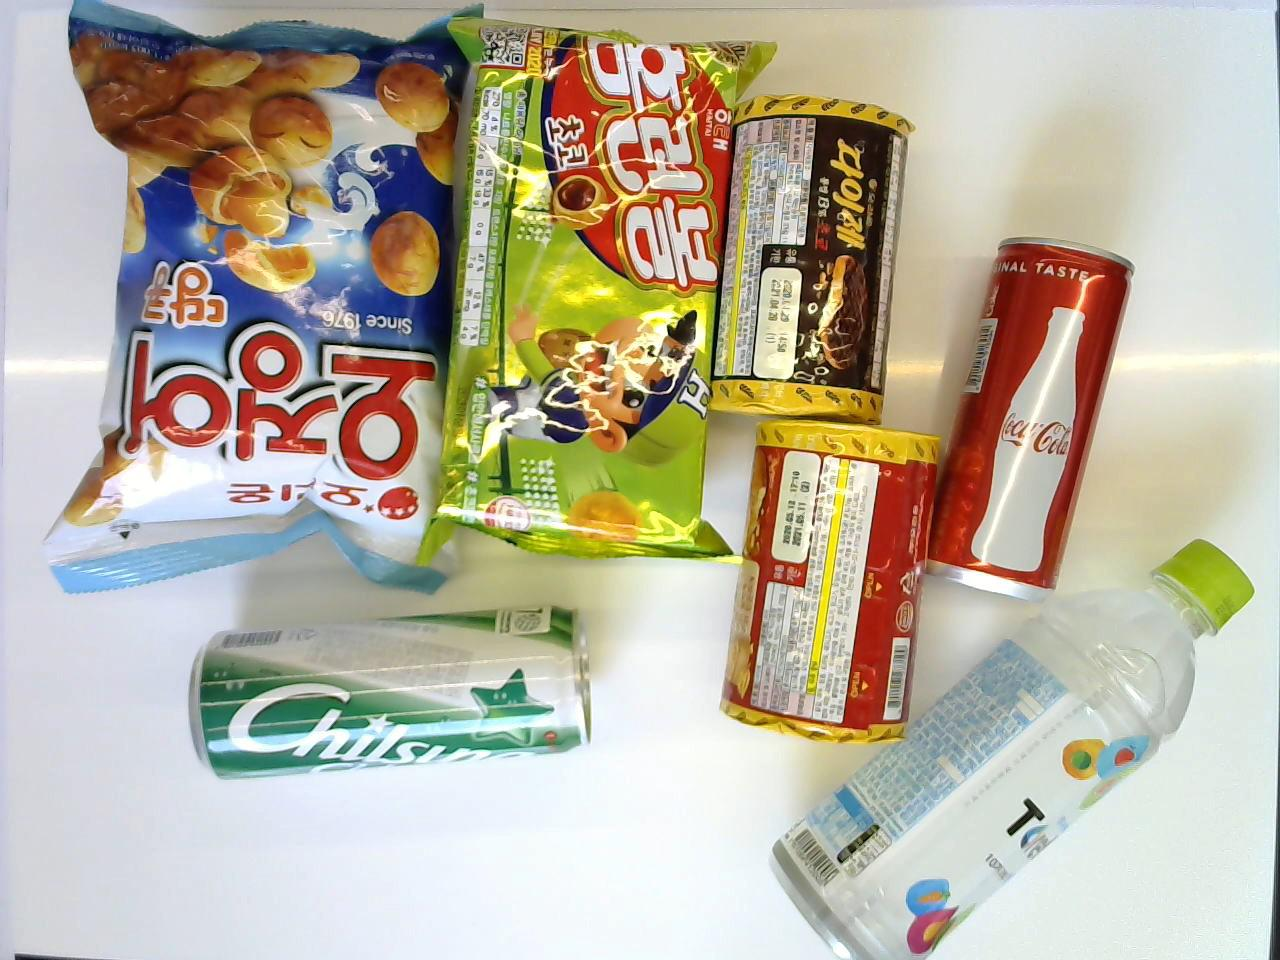cidar: (184, 603, 596, 783)
coke: (911, 240, 1132, 602)
diget_choco: (702, 93, 914, 428)
diget_ori: (717, 417, 952, 744)
homerunball: (436, 14, 776, 569)
squid_peanut: (37, 4, 486, 597)
toreta: (766, 535, 1267, 956)
